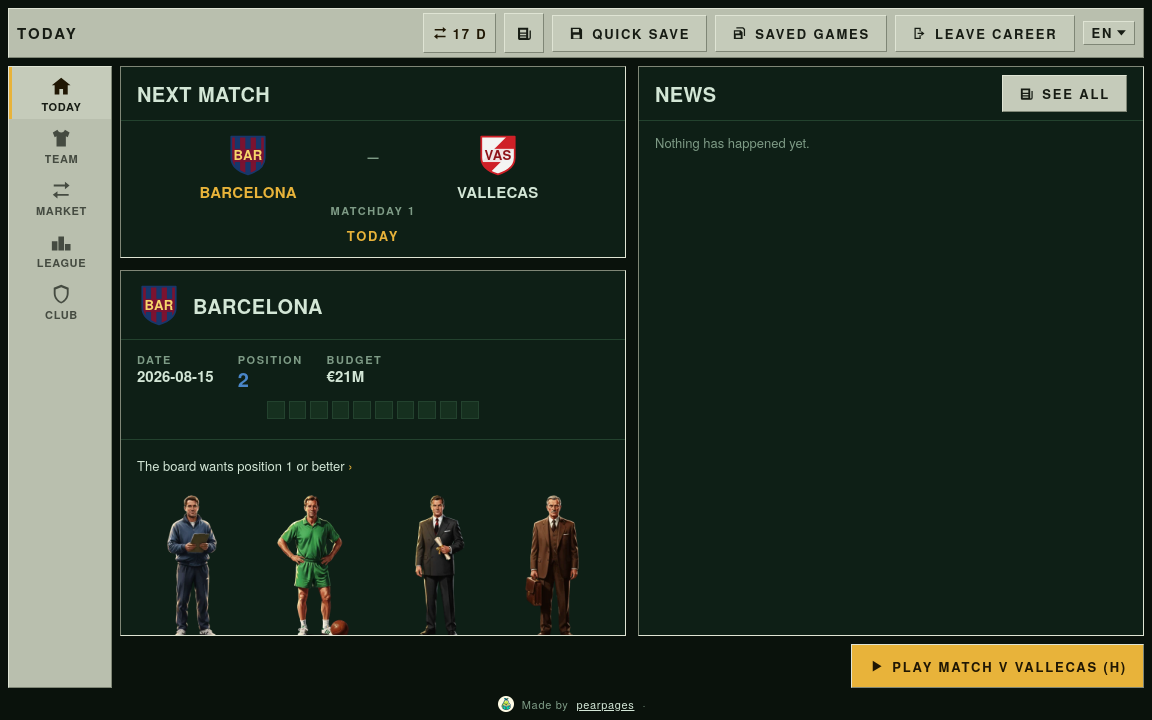
Scenario: the market screen › opens the ficha for a player you do not own, and comes back
Step 1. Click the button "Market" → (60, 197), box [9, 171, 111, 223]
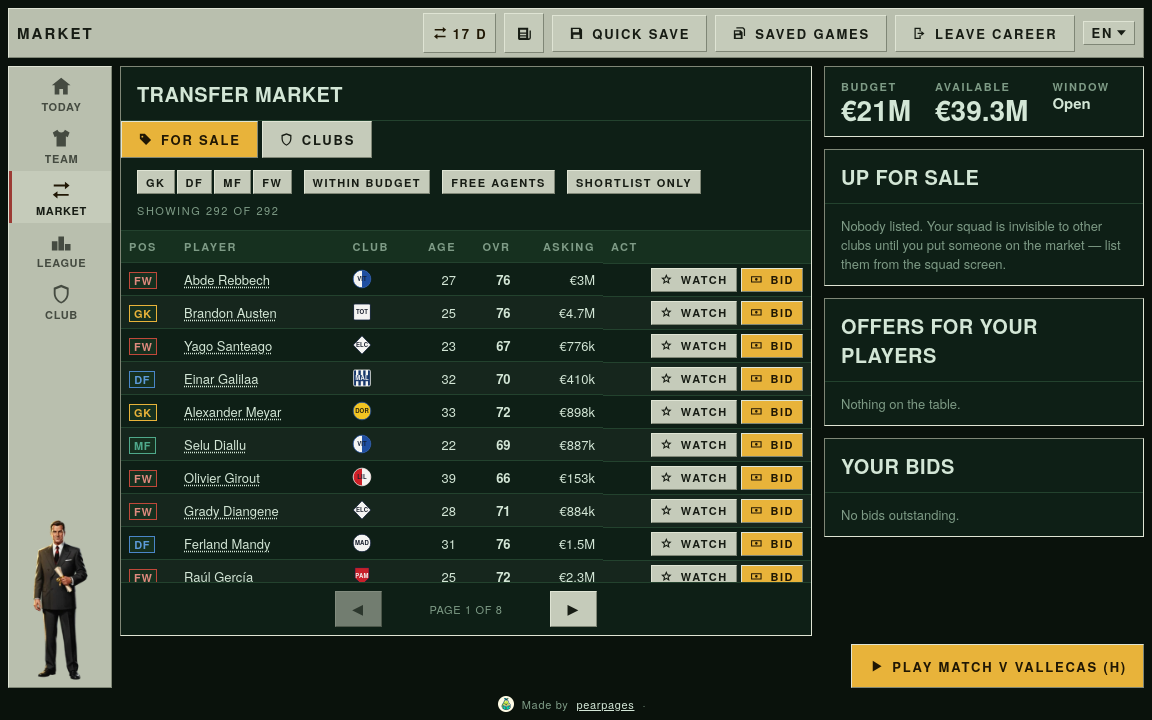
Step 2. Click the button "Abde Rebbech" → (227, 279), box [184, 270, 270, 288]
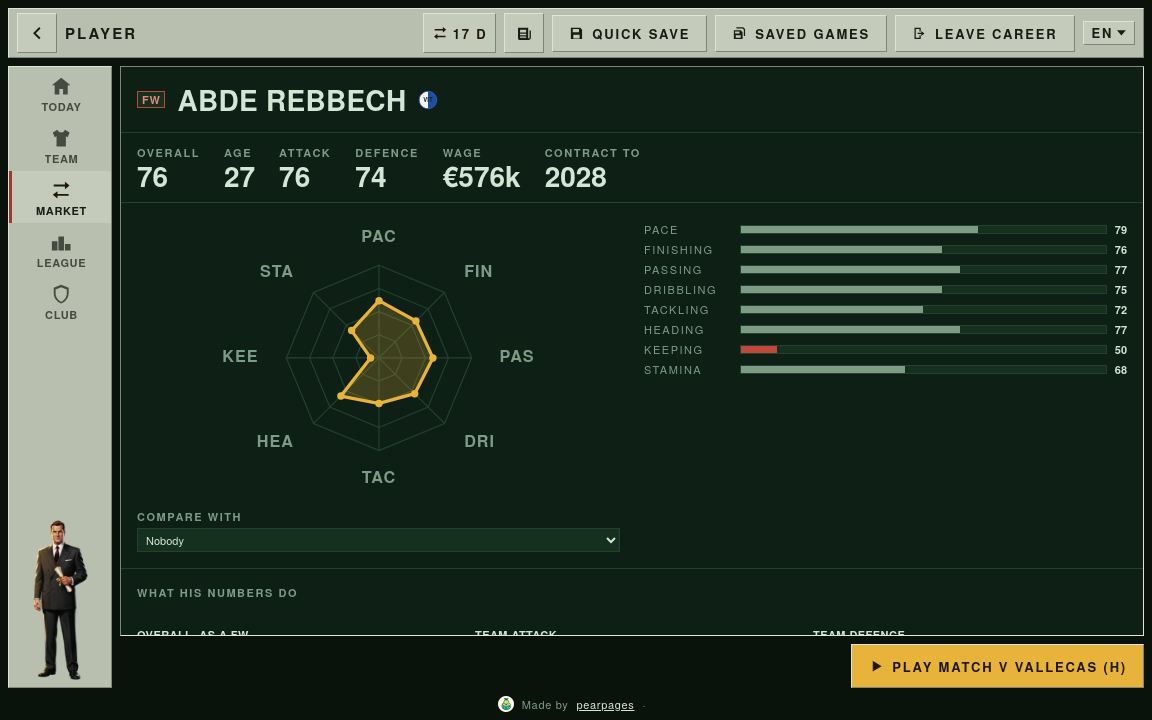
Expected: the heading "Abde Rebbech" is shown, [177, 79, 406, 120]
Step 3. Click the button named "Back" → (37, 33), box [17, 13, 57, 53]
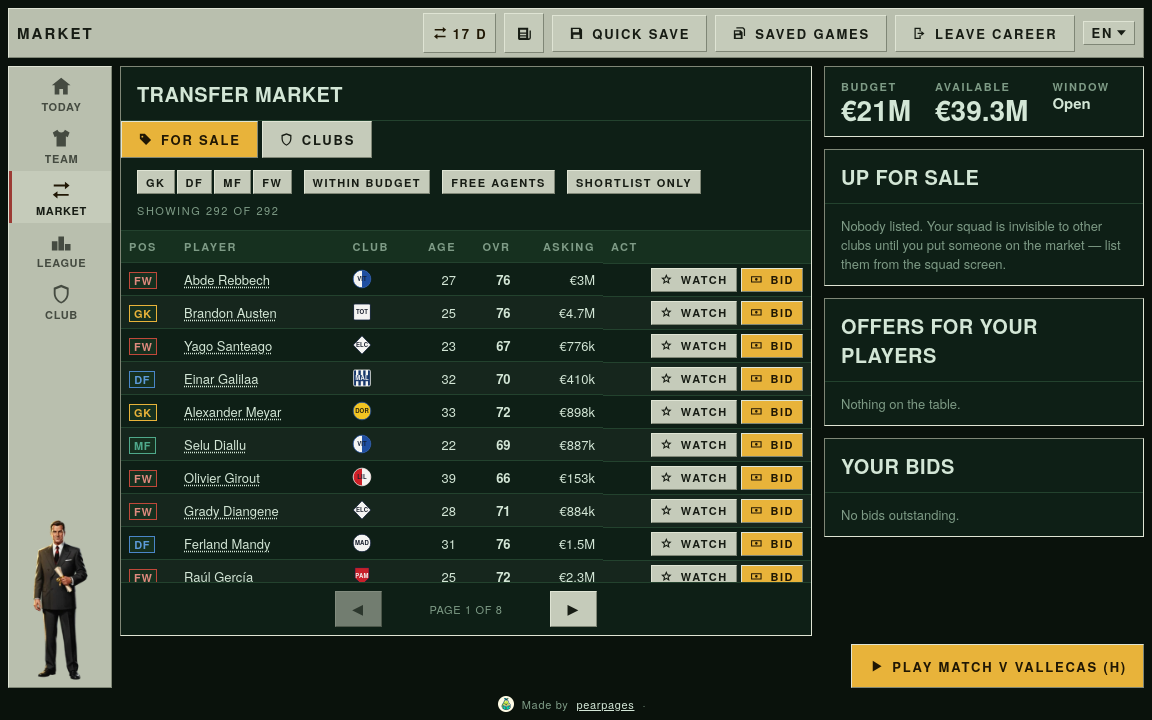
Expected: the heading "Transfer market" is shown, [121, 67, 811, 121]
